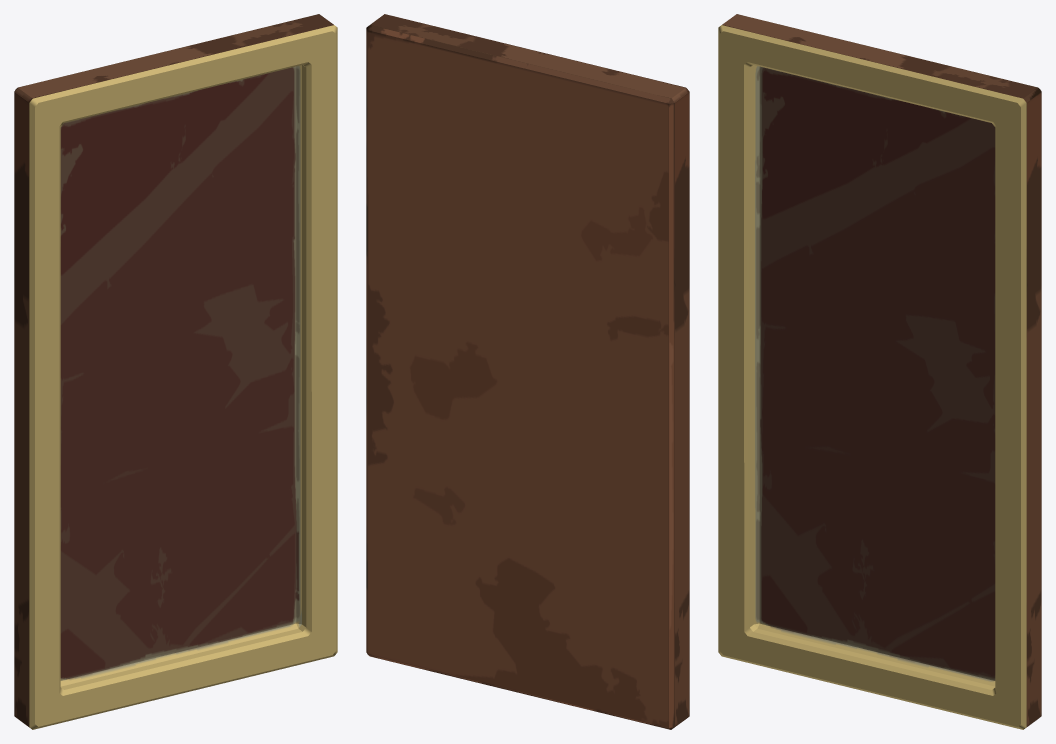
The model's file is door_R.fbx.
3 renders of one model, left to right at view 1: azimuth 30°, elevation 25°; view 2: azimuth 150°, elevation 25°; view 3: azimuth 330°, elevation 25°, orthographic.
Parts seen in each view (by area): view 1: door_L; view 2: door_L; view 3: door_L.
Part boxes in pixels (x1,y1,x2,y2): door_L: (14,14,337,729); door_L: (366,14,689,729); door_L: (718,14,1041,729).
Size of the model in its own units: 0.46 by 0.9 by 0.05.
